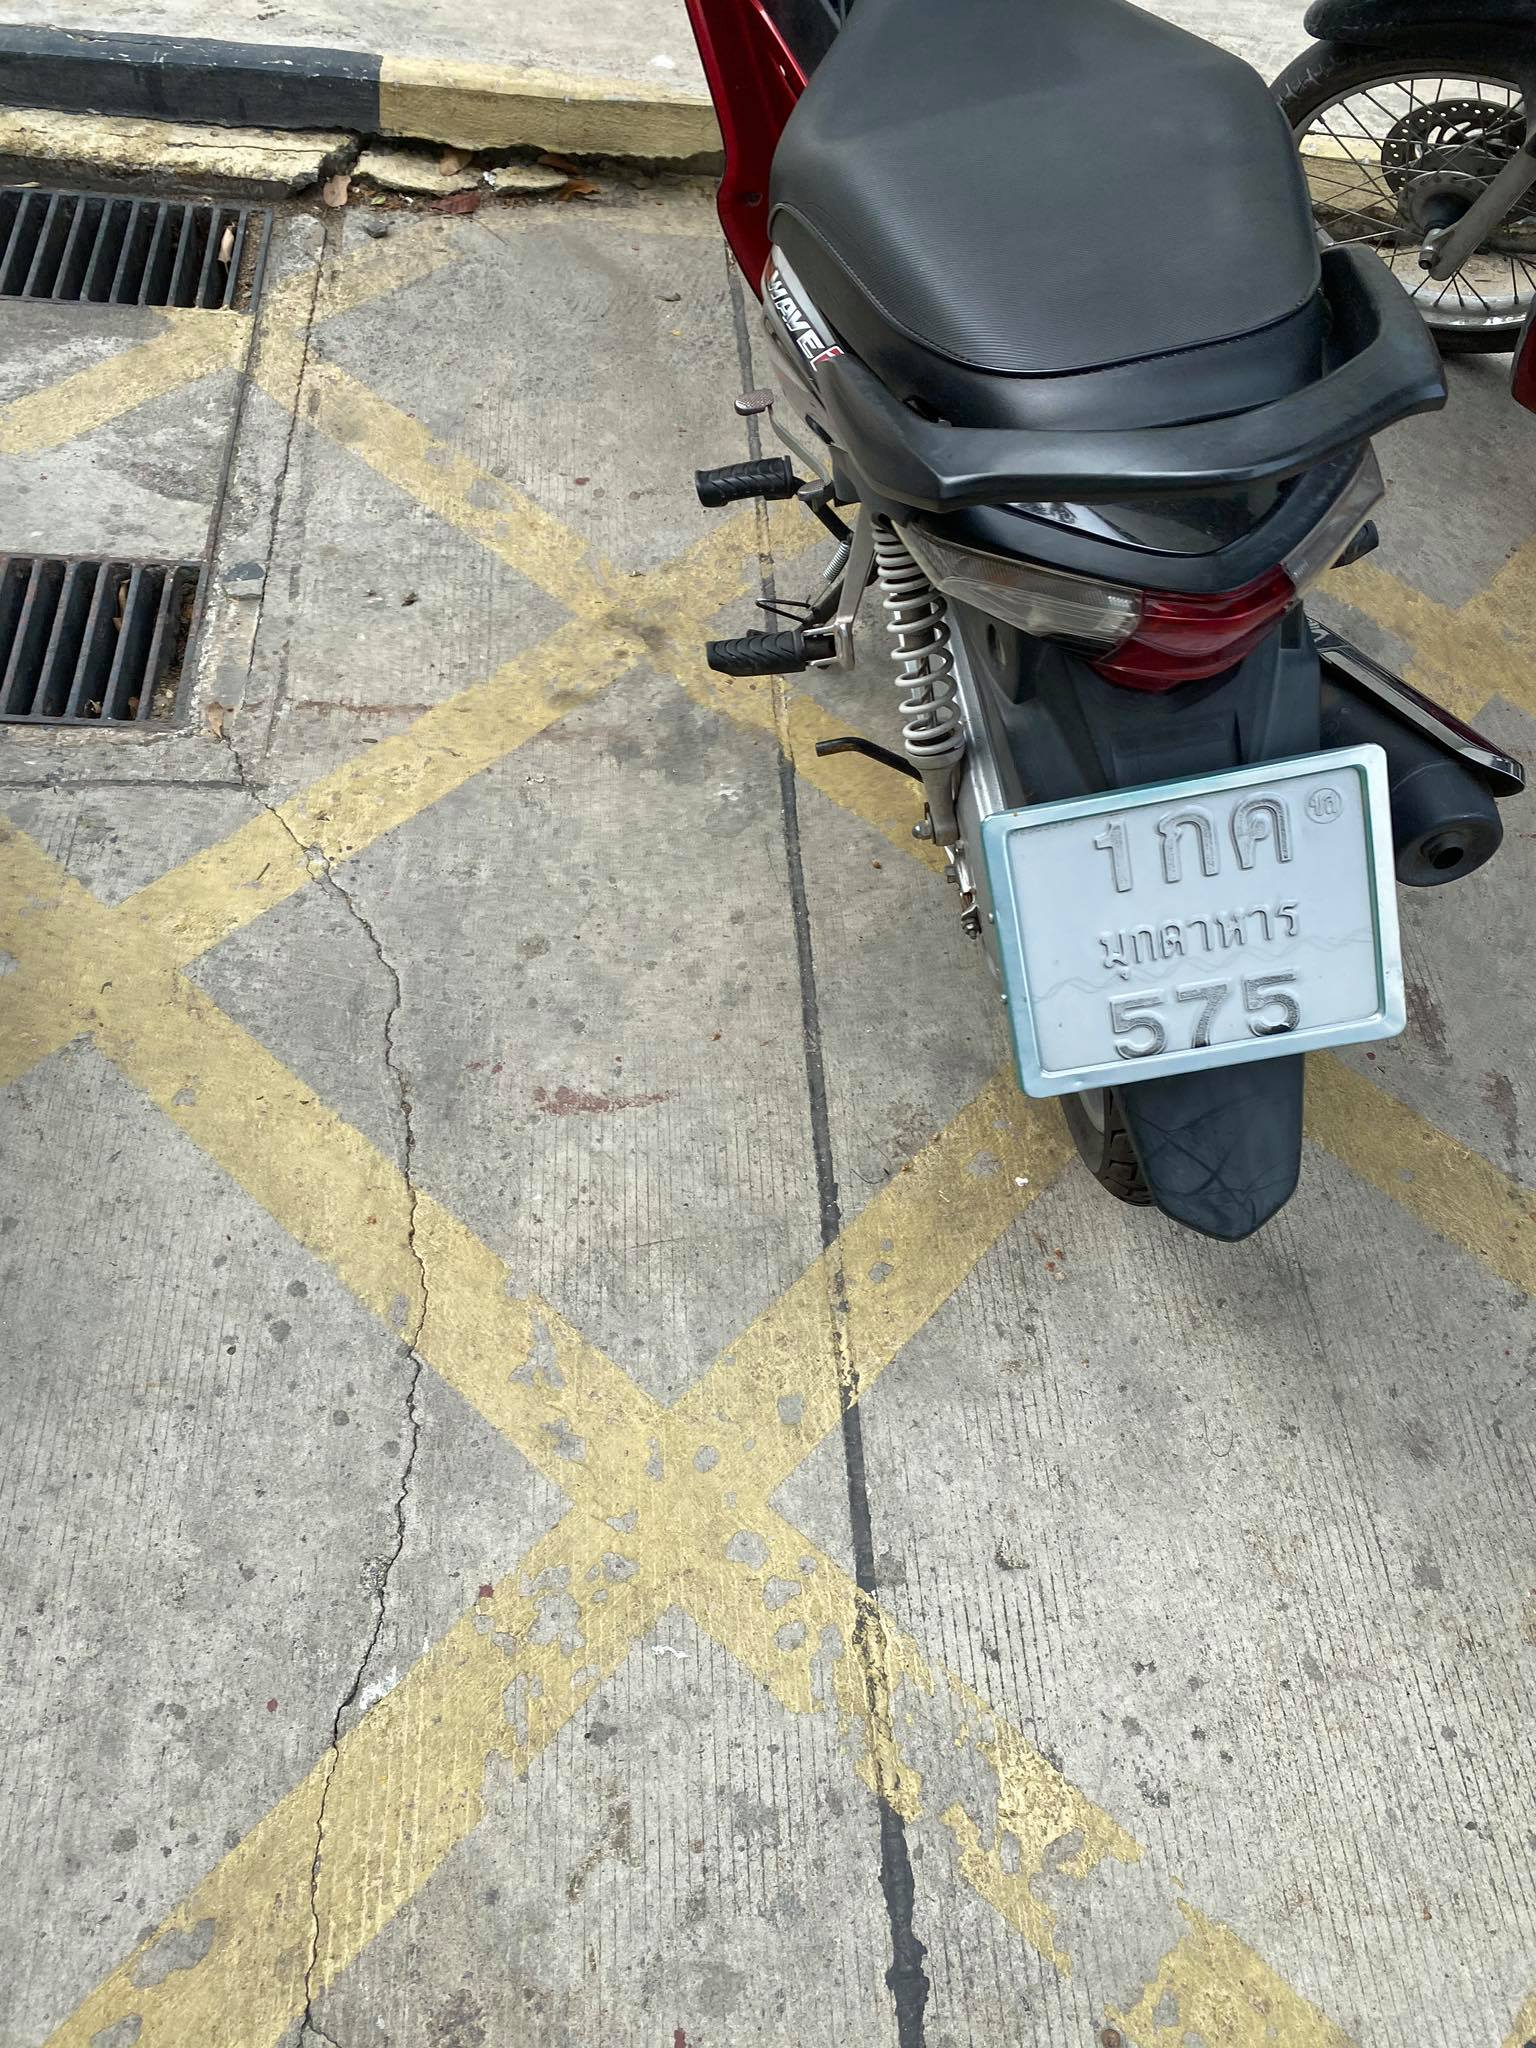line1: (1075, 789, 1310, 898)
line2: (1087, 901, 1313, 977)
line3: (1104, 971, 1317, 1072)
